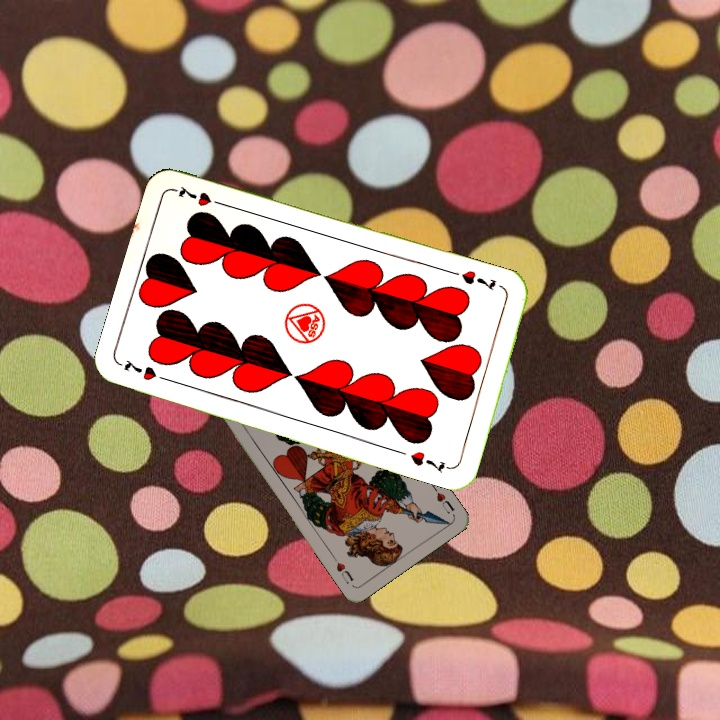H7: (120, 355, 175, 385), (457, 266, 499, 293)
HU: (428, 482, 457, 516)
